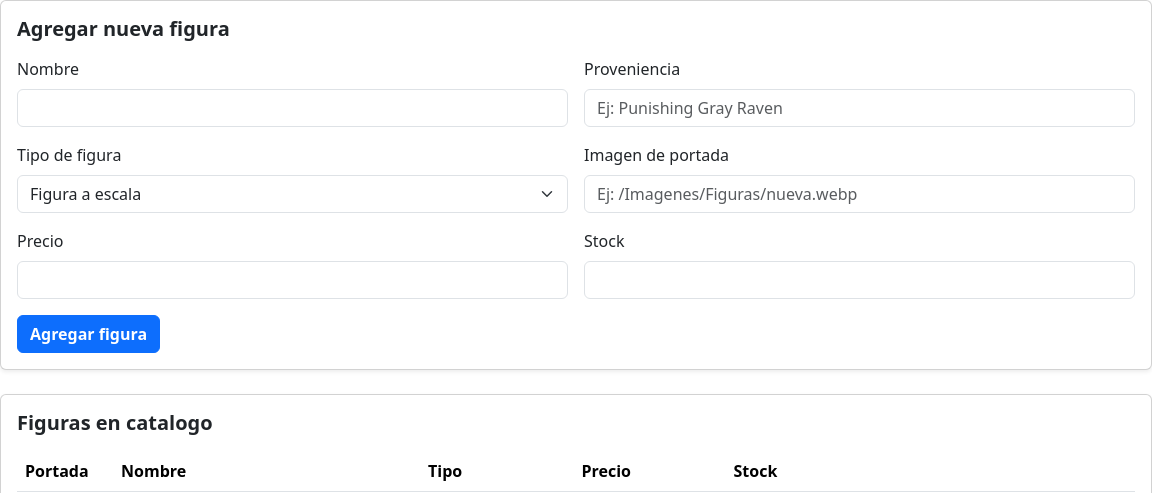
formulario para agregar figuras › avisa si faltan textos o si el precio no es válido
The image size is (1152, 493).
Click the button "Agregar figura" at [89, 334], box [17,315,160,353]
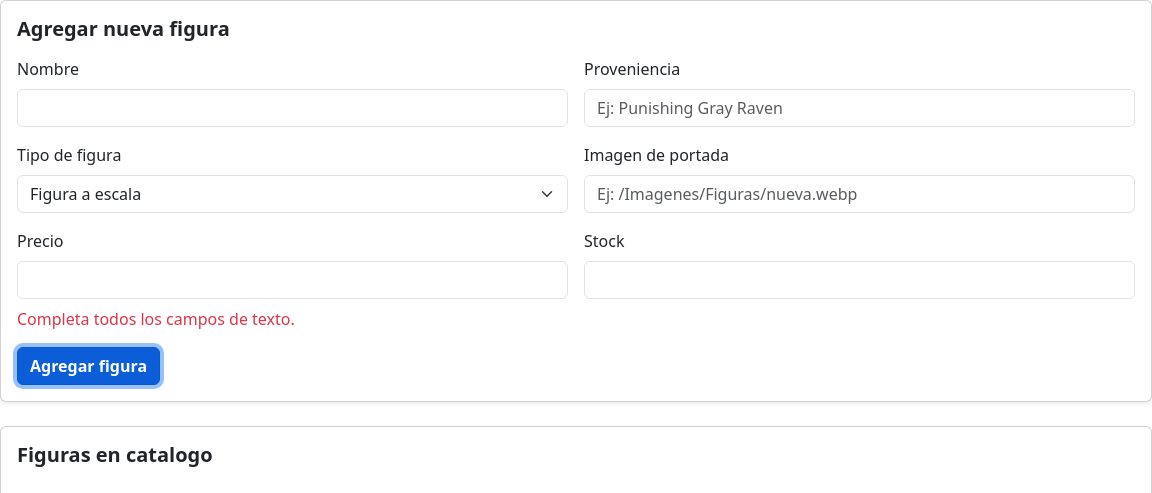
Check: the text "Completa todos los campos de texto." is shown, box [17,308,295,330]
Type "Figura" into the 1st field at [292, 108], box [17,89,568,127]
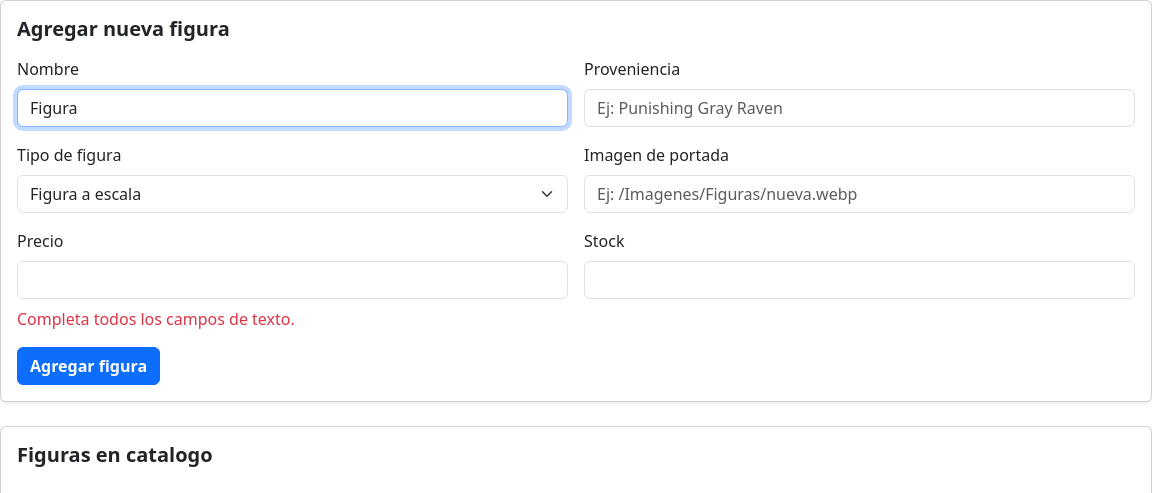
Type "Pruebas" into the field with placeholder "Ej: Punishing Gray Raven" at [860, 108], box [584,89,1135,127]
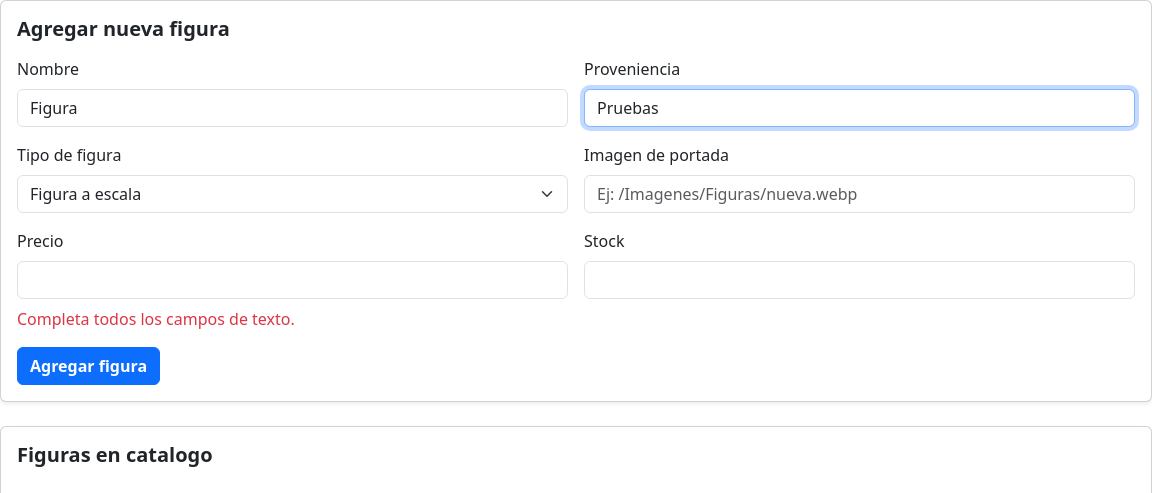
Type "/x.webp" into the field with placeholder "Ej: /Imagenes/Figuras/nueva.webp" at [860, 194], box [584,175,1135,213]
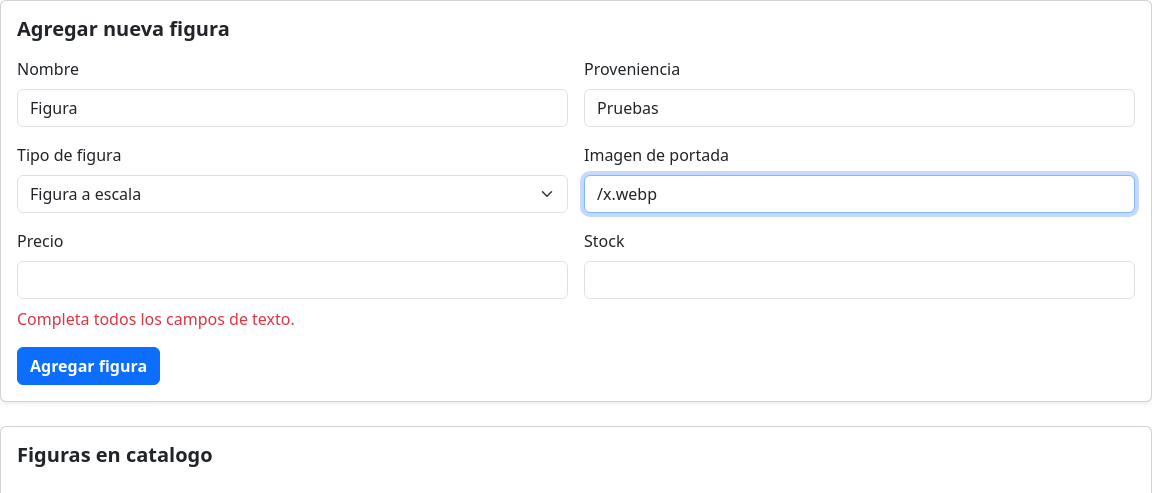
Click the button "Agregar figura" at [89, 366], box [17,347,160,385]
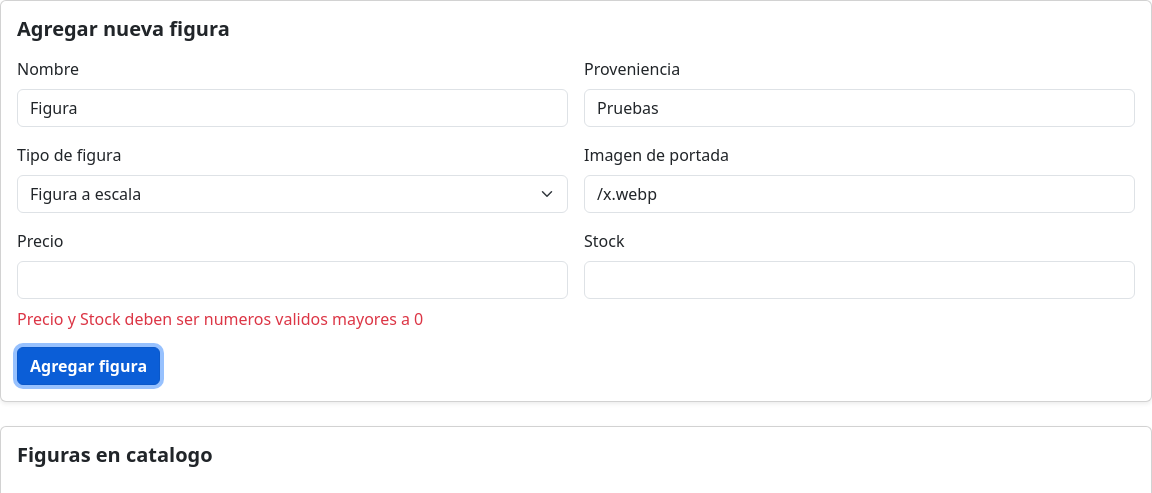
Check: the text "Precio y Stock deben ser numeros validos mayores a 0" is shown, box [17,308,423,330]
